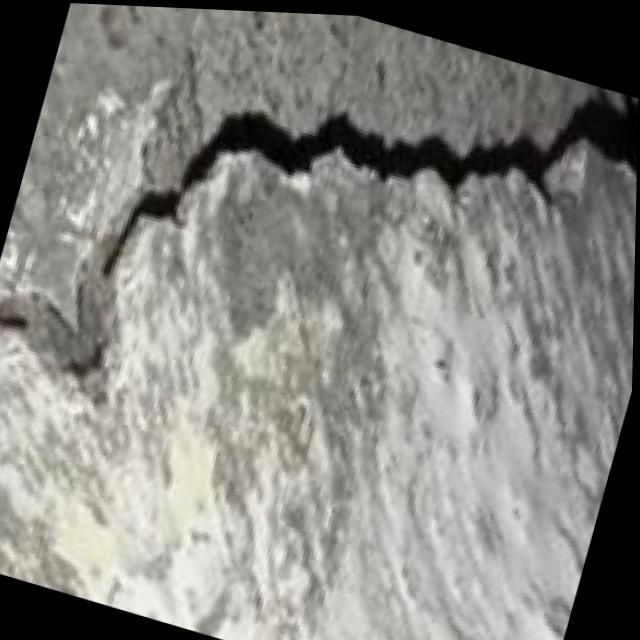Crack: (0, 0, 640, 511)
